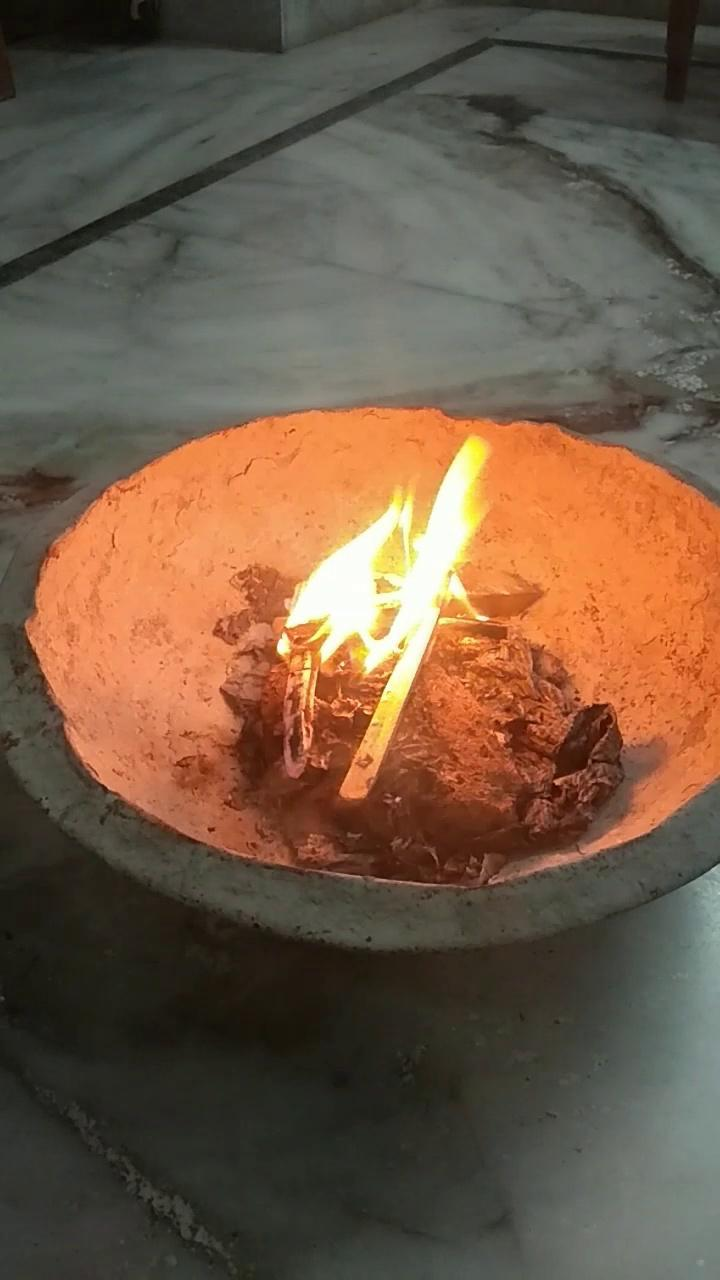fire: (273, 386, 518, 692)
